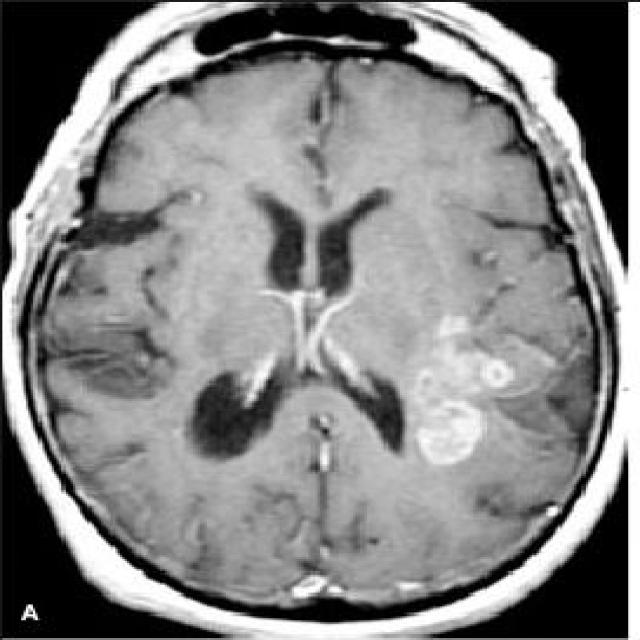Tumor-Cell: (392, 314, 564, 474), (67, 275, 151, 388)
